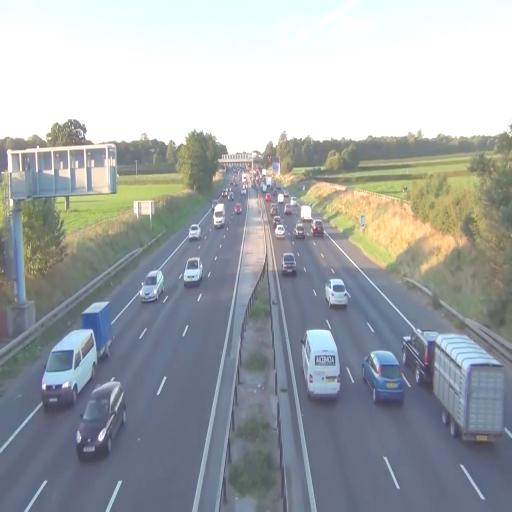vehicle: (430, 333, 506, 444), (432, 332, 506, 444), (40, 327, 98, 410), (40, 327, 97, 410), (75, 378, 126, 460), (302, 325, 340, 399), (362, 349, 404, 405), (140, 270, 165, 304), (325, 278, 350, 309), (184, 257, 202, 286), (280, 251, 298, 278), (212, 203, 226, 227), (188, 222, 202, 240), (274, 221, 284, 236)
